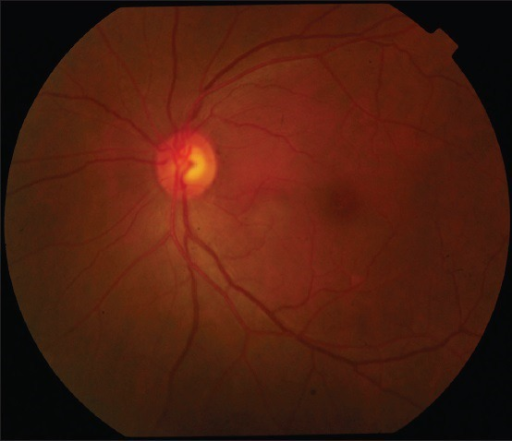Glaucoma section-1: (173, 146, 203, 178)
Glaucoma section-2: (155, 130, 219, 199)
